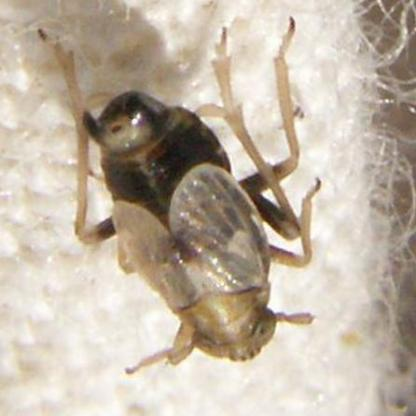brown-planthopper: (70, 74, 318, 368)
